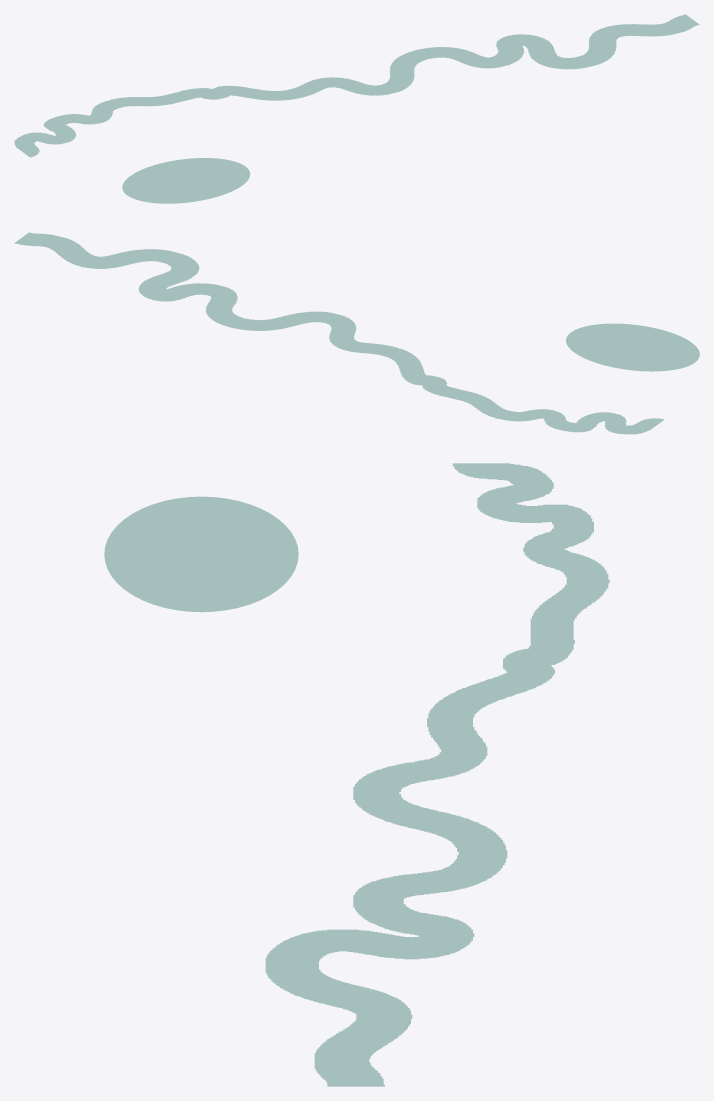
The model's file is water.glb.
The picture shows the model from 3 angles, top to bottom: view 1: azimuth 30°, elevation 25°; view 2: azimuth 150°, elevation 25°; view 3: azimuth 270°, elevation 25°; orthographic projection. The views are drawn at different scales.
Visible parts, largest first — view 1: river, lake; view 2: river, lake; view 3: river, lake.
Part boxes in pixels (<box>): river: <box>14,14,699,157</box>; lake: <box>122,158,250,203</box>; river: <box>14,232,664,434</box>; lake: <box>566,323,699,371</box>; river: <box>265,463,609,1086</box>; lake: <box>104,496,298,612</box>.
Size of the model in its own units: 4096 by 0 by 1404.
